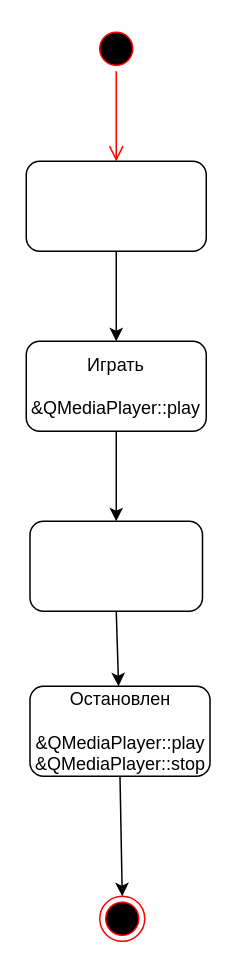
Some shapes in this 237 by 968 pixel diagram are drawn without their labels. The centre of each missing label's shape, as x and y in pixels:
"Добавить в плейлист void MainWindow::on_btn_add_clicked()" belongs at (x=115, y=205).
"Пауза &QMediaPlayer::play &QMediaPlayer::pause" belongs at (x=115, y=565).
